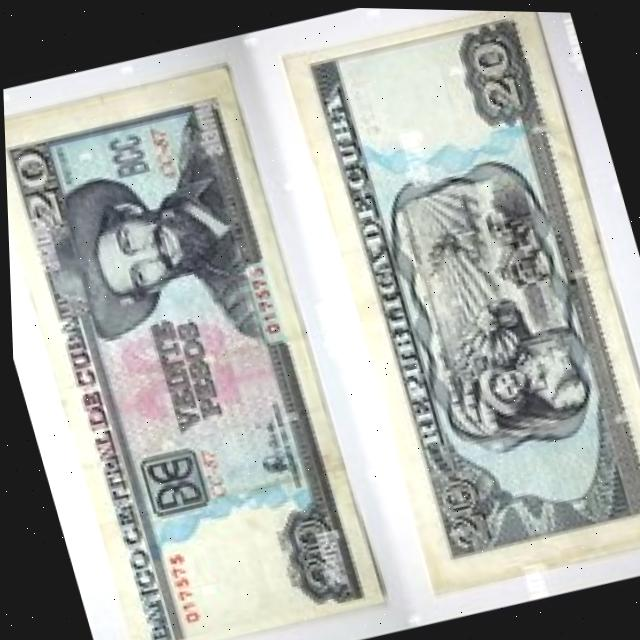banknote: (2, 57, 381, 640), (273, 5, 640, 600)
